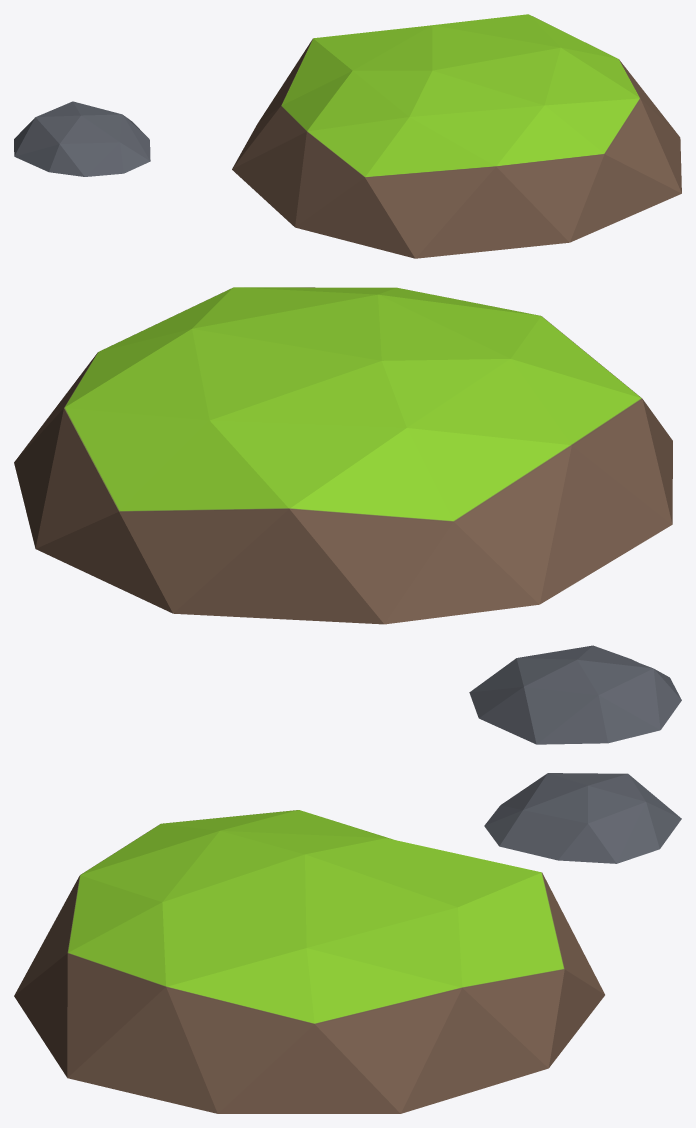
File: island.obj
The picture shows the model from 3 angles, top to bottom: view 1: azimuth 30°, elevation 25°; view 2: azimuth 150°, elevation 25°; view 3: azimuth 270°, elevation 25°; orthographic projection. The views are drawn at different scales.
Visible parts, largest first — view 1: 아이코스피어; view 2: 아이코스피어; view 3: 아이코스피어.
Boxes of the visible parts, x1,y1,x2,y2 form: 아이코스피어: [14, 14, 681, 258]; 아이코스피어: [14, 287, 681, 744]; 아이코스피어: [14, 773, 681, 1113].
Bounding box in the file's own units: 12.68 × 2.25 × 10.87.
1 material, 1 textured.
